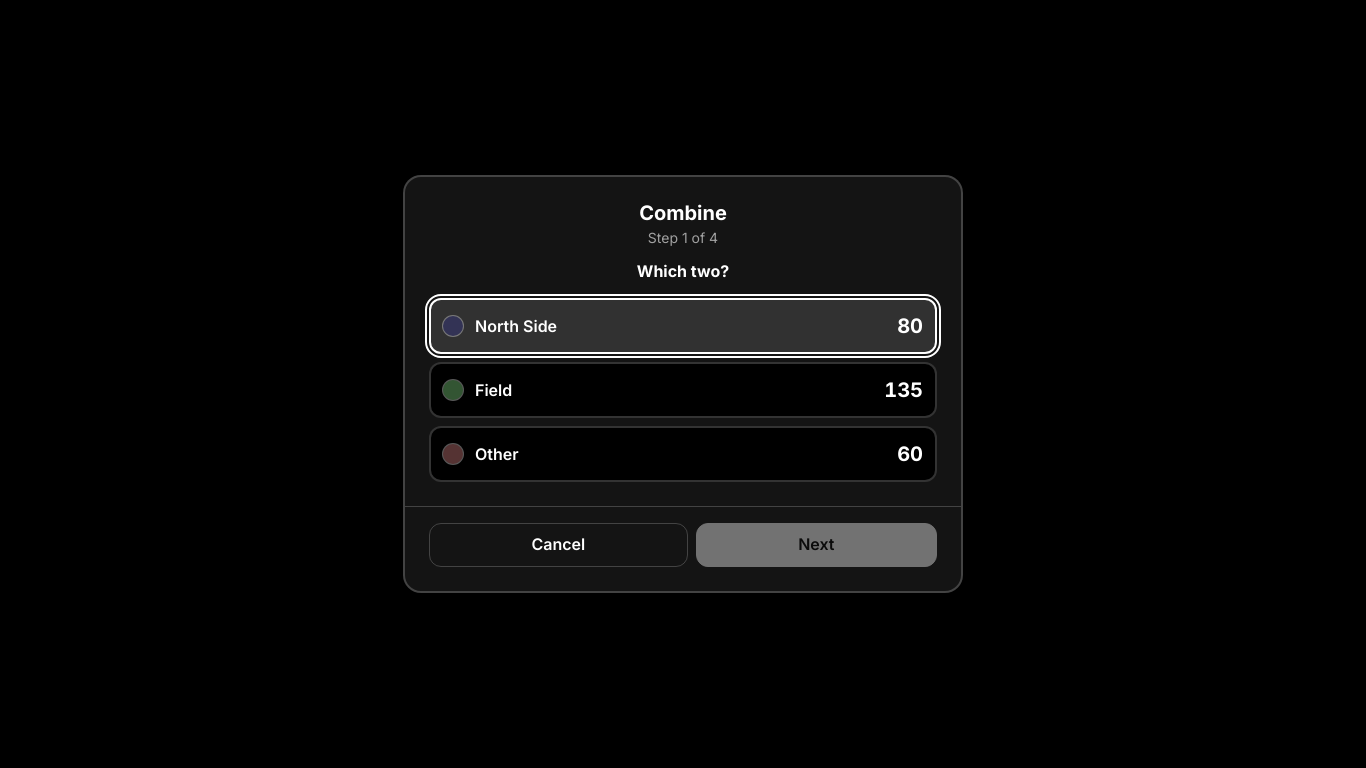
Test: CombineEntriesSheet › asks one thing per step, each heading from the config
The width and height of the screenshot is (1366, 768).
Check: the text "Step 1 of 4" is shown, box x1=648 y1=229 x2=718 y2=246
Check: the heading "Which two?" is shown, box x1=637 y1=261 x2=729 y2=281
Click the button "Field 135".
click(494, 390)  # box x1=429 y1=362 x2=937 y2=418
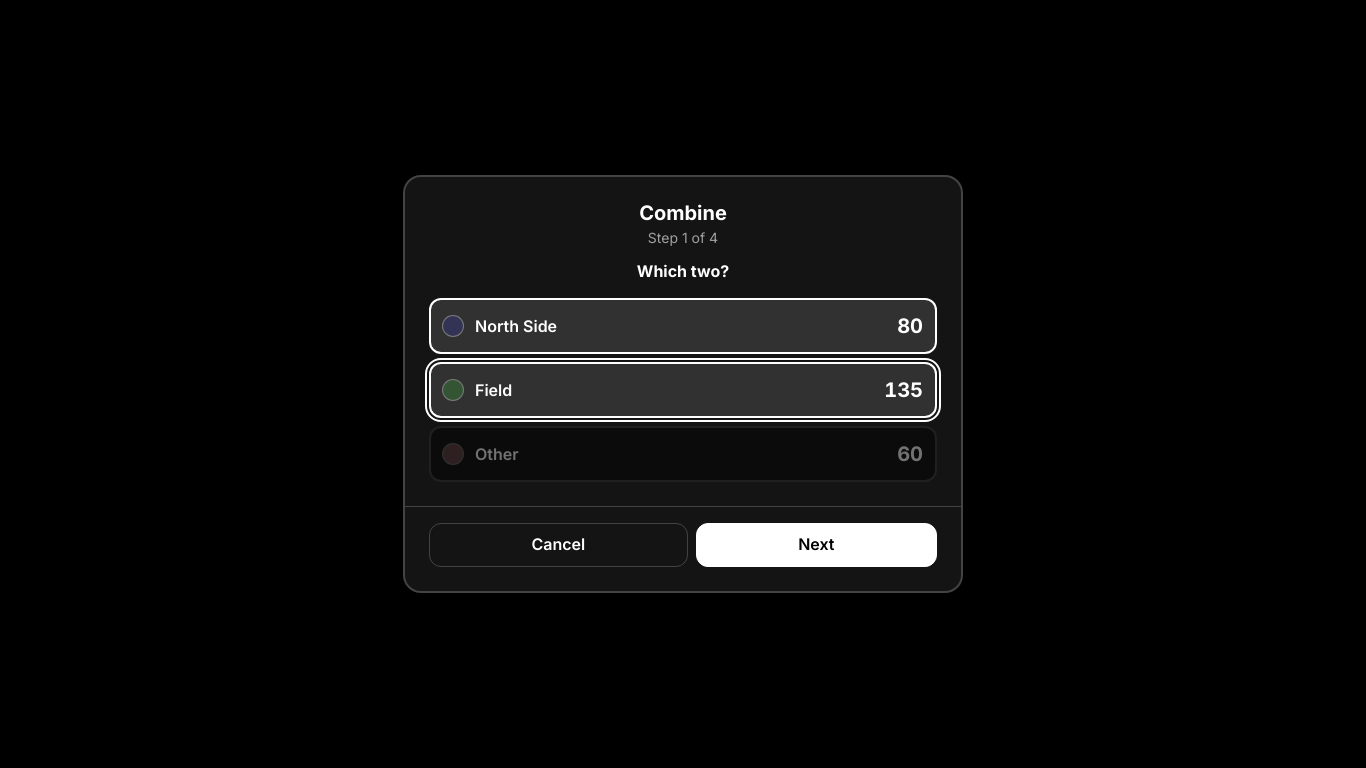
Click the button "Next".
click(816, 545)  # box x1=696 y1=523 x2=937 y2=567
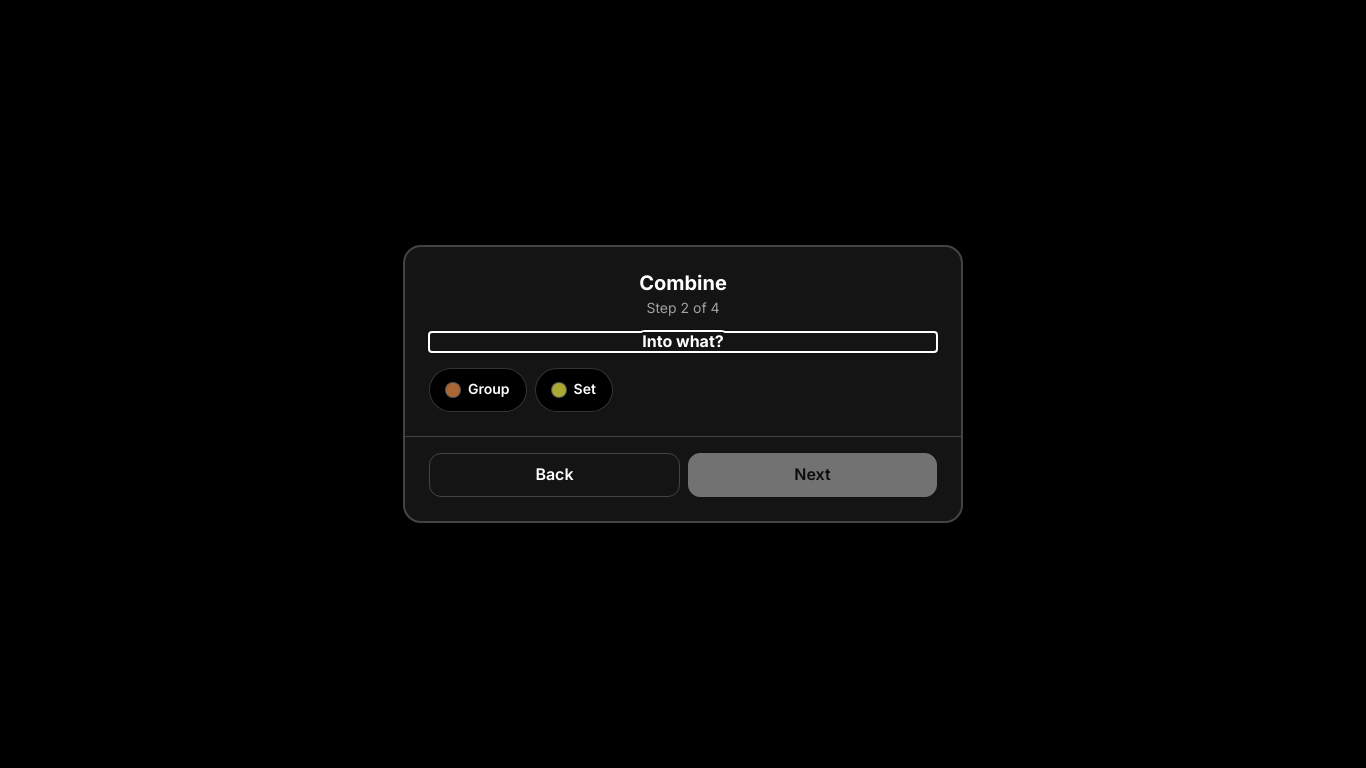
Check: the heading "Into what?" is shown, box x1=642 y1=331 x2=724 y2=351
Note: A single choice moves on by itself.
Click the button "Group".
click(478, 390)  # box x1=429 y1=368 x2=527 y2=412
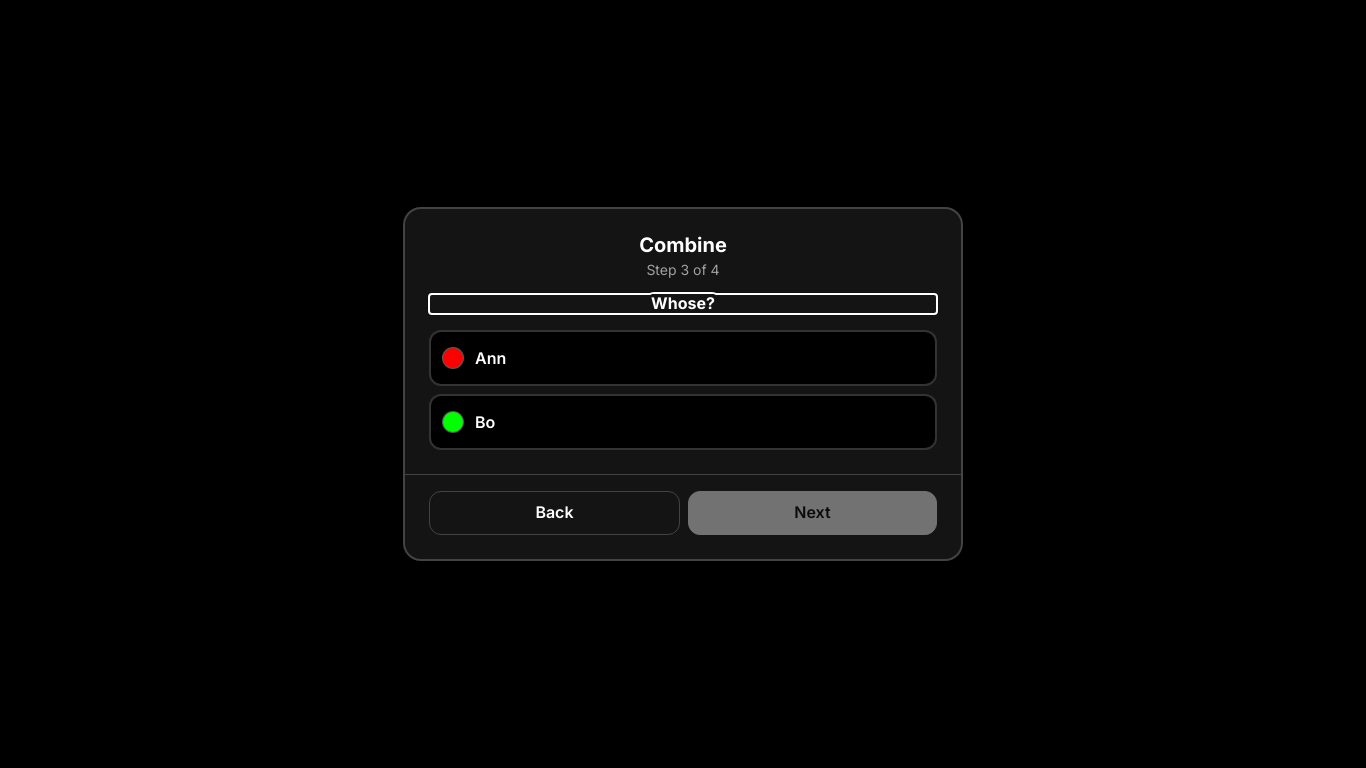
Check: the heading "Whose?" is shown, box x1=651 y1=293 x2=715 y2=313
Click the button "Bo".
click(453, 422)  # box x1=429 y1=394 x2=937 y2=450
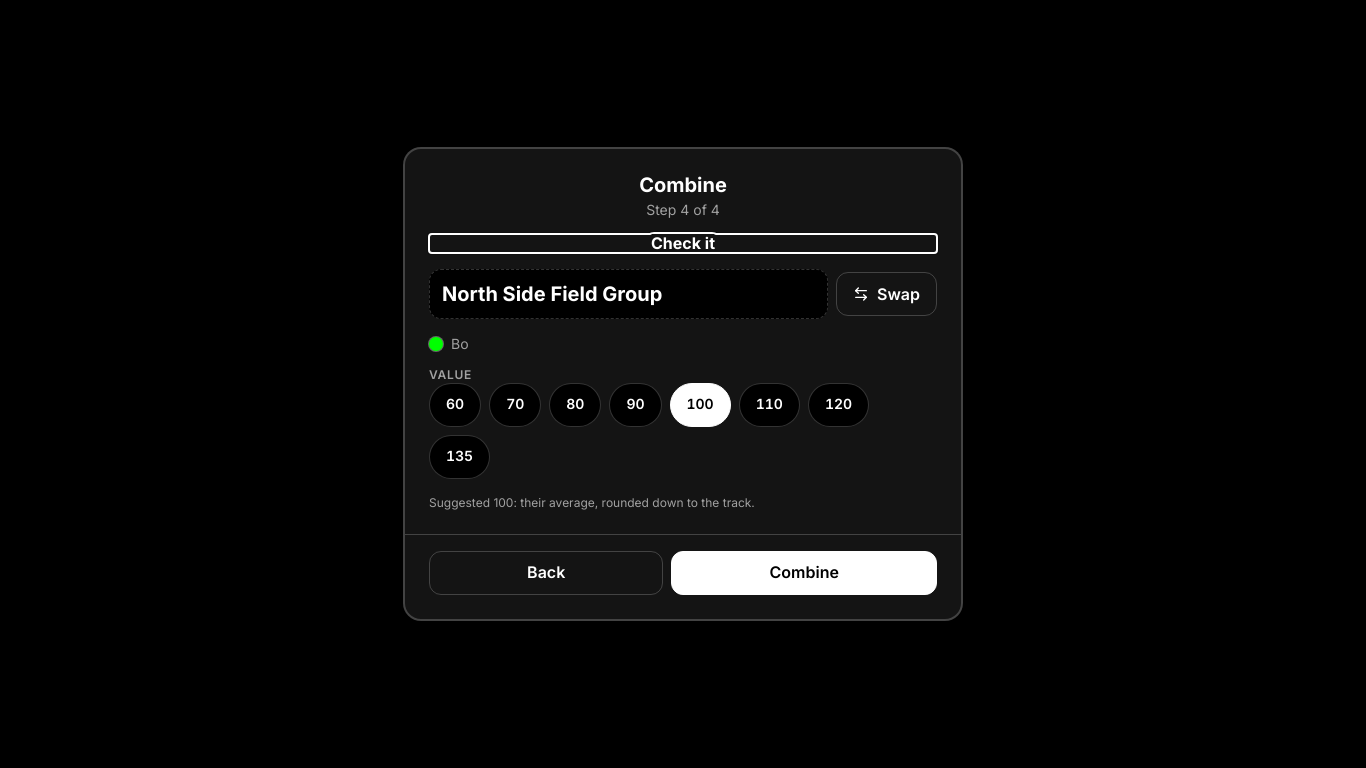
Check: the text "Step 4 of 4" is shown, box x1=646 y1=201 x2=720 y2=218
Check: the heading "Check it" is shown, box x1=651 y1=233 x2=715 y2=253
